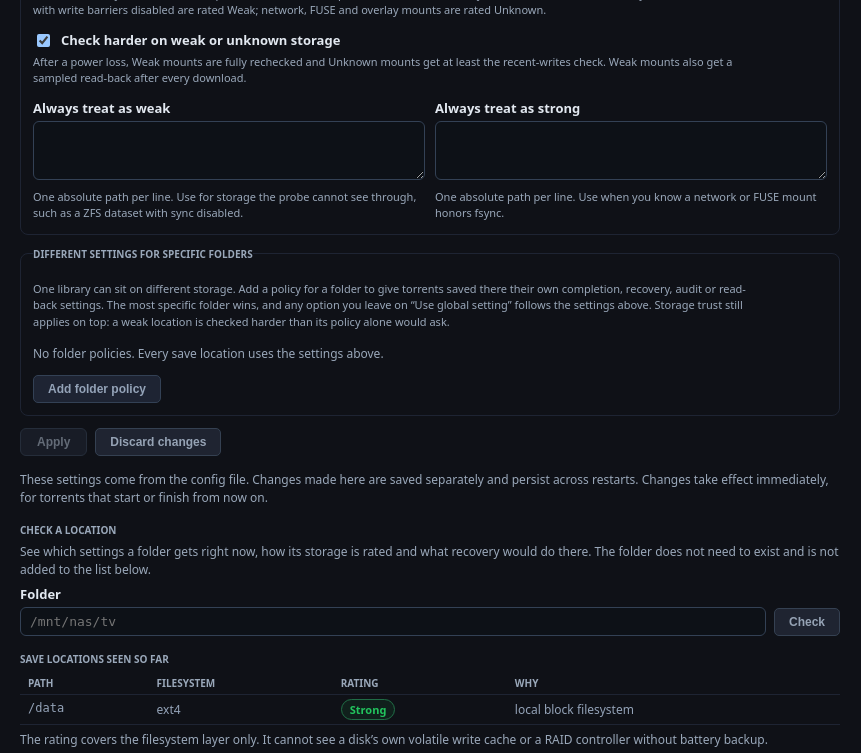
Test: CrashSafetyPanel › checks a location and explains what escalation did
The image size is (861, 753).
(page scrolled)
Expected: the button "Check" is disabled, 774,608 -> 840,636
Type "relative" into the field labelled "Folder" at (393, 622), box 20,607 -> 766,636
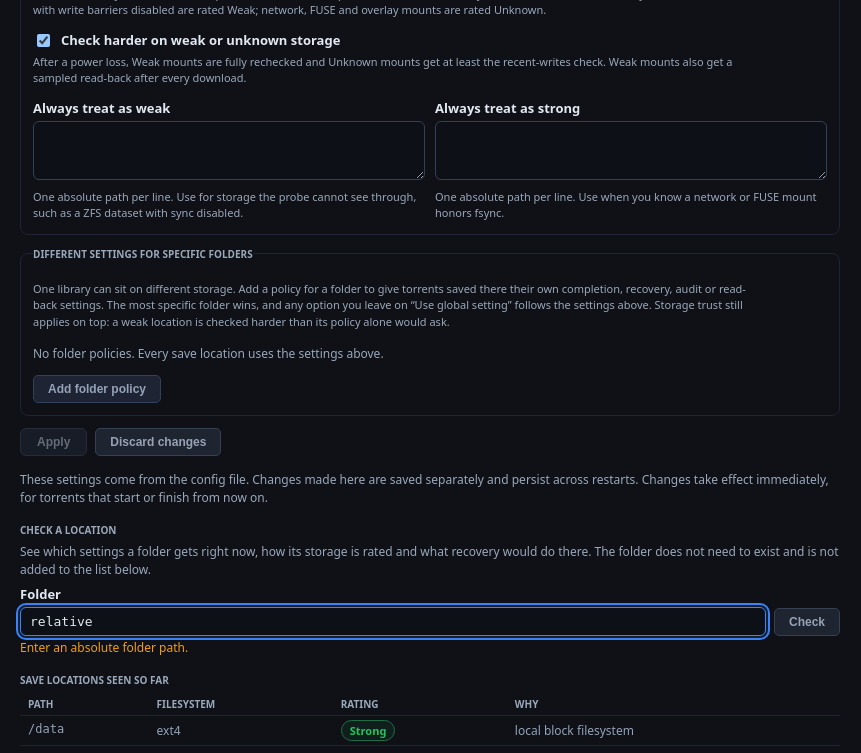
Expected: the button "Check" is disabled, 774,608 -> 840,636
Now the text "Enter an absolute folder path." is shown, box 20,639 -> 188,656
Replace the text in the field labelled "Folder" with "/mnt/nas/tv" at (393, 622), box 20,607 -> 766,636
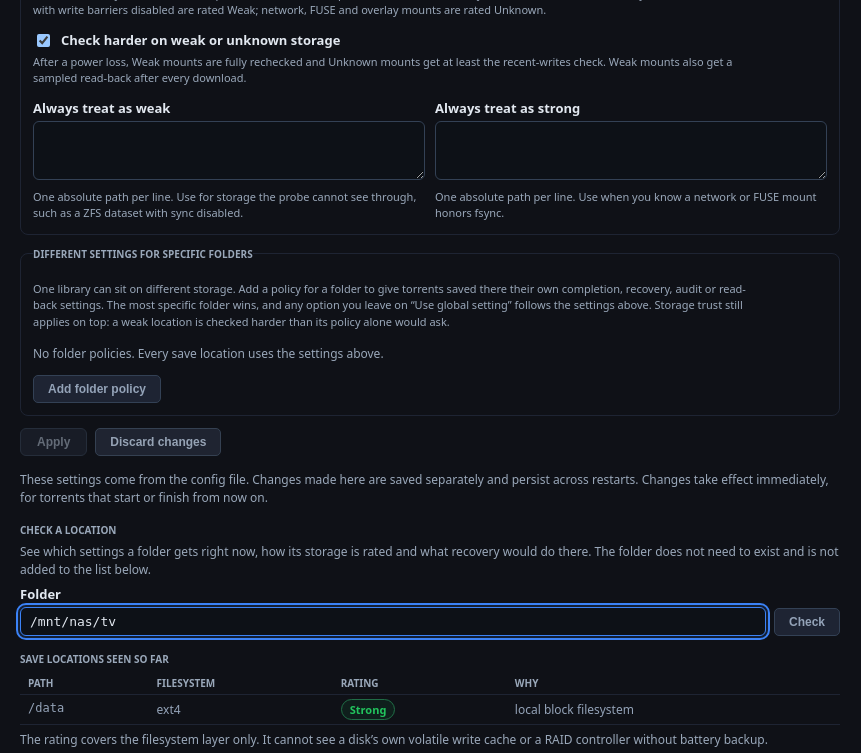
Click the button "Check" at (807, 622), box 774,608 -> 840,636
(page scrolled)
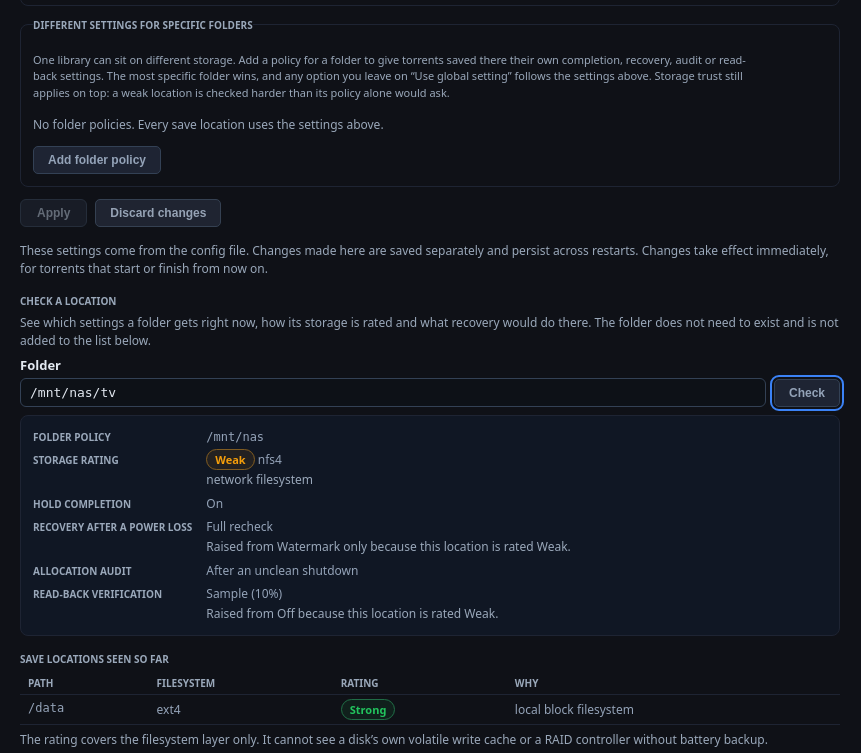
Now the text "/mnt/nas" is shown, box 206,430 -> 264,444
Now the text "Weak" is shown, box 206,449 -> 255,470
Now the element with test id "path-report" shows "Raised from Watermark only because this location is rated Weak", box 20,415 -> 840,636
